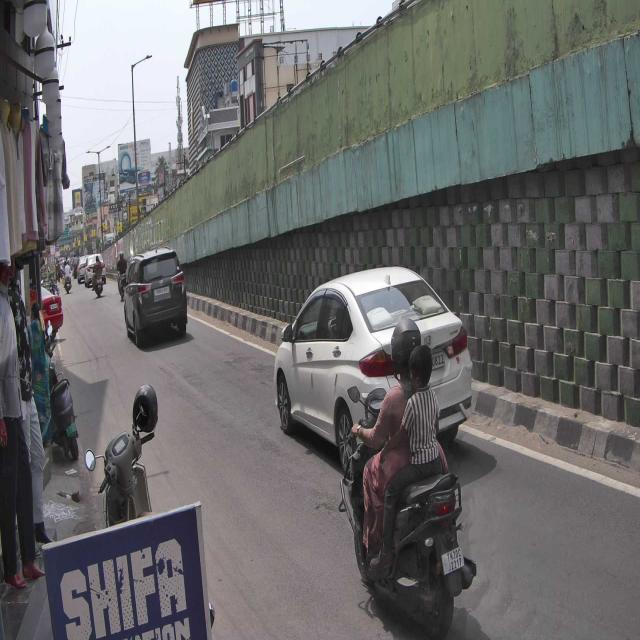double_rider: (338, 318, 477, 640)
